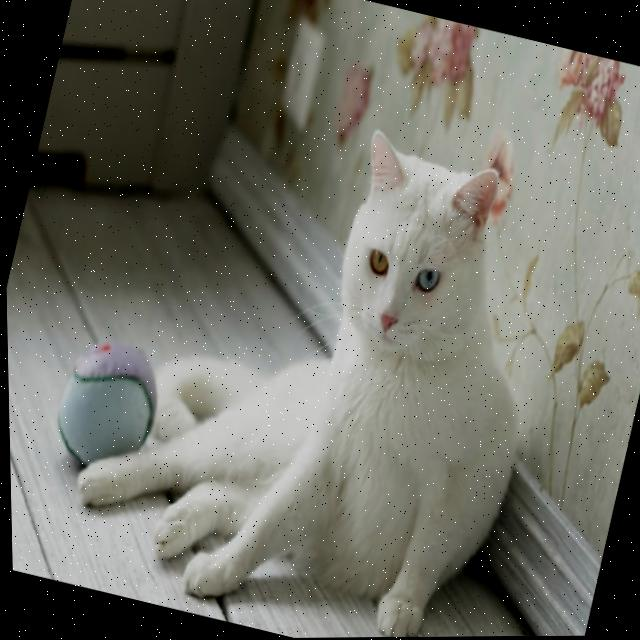Khao Manee: (42, 69, 591, 640)
